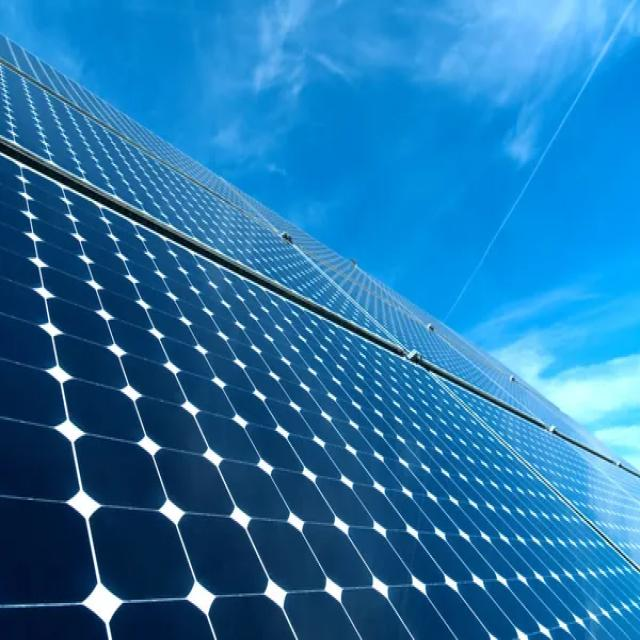clean-solar-panel: (1, 36, 640, 637)
